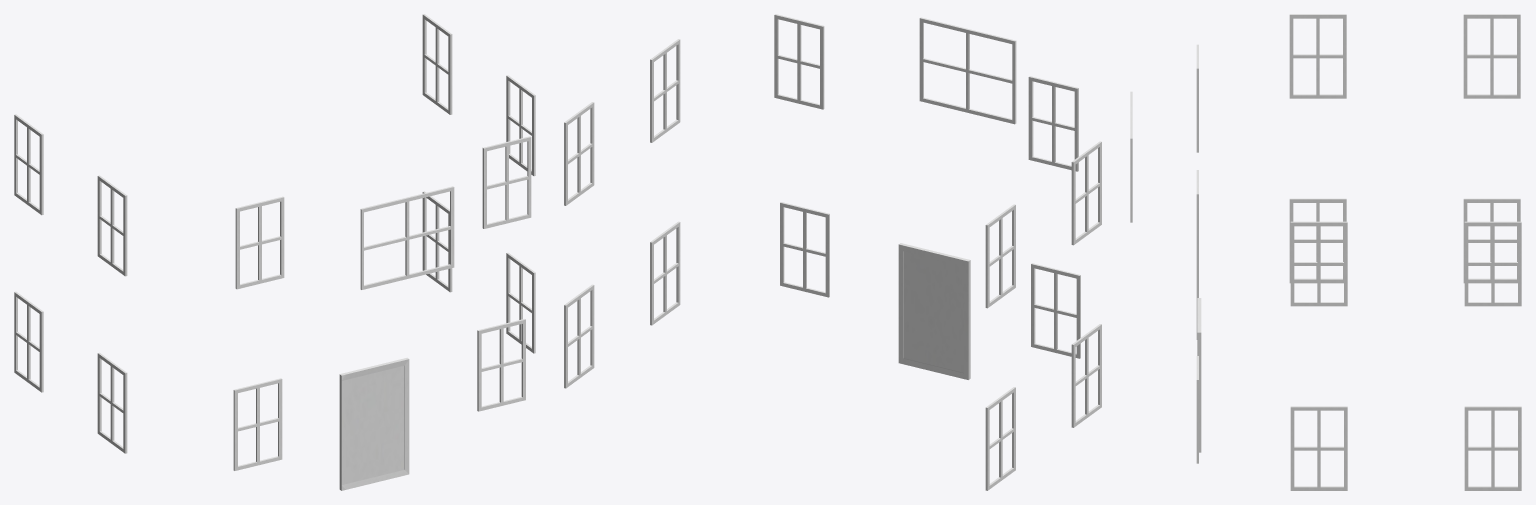
The model's file is house_1_frames.obj.
3 views of the same model, side by side, from view 1: azimuth 30°, elevation 25°; view 2: azimuth 150°, elevation 25°; view 3: azimuth 270°, elevation 25° (orthographic). The views are drawn at different scales.
Parts seen in each view (by area): view 1: Cube.000; view 2: Cube.000; view 3: Cube.000.
Boxes of the visible parts, bbox=[...] form: Cube.000: bbox=[14, 14, 535, 490]; Cube.000: bbox=[564, 14, 1101, 490]; Cube.000: bbox=[1130, 14, 1521, 490].
Bounding box in the file's own units: 4.34 × 3.11 × 3.44.
Materials: 2 (2 with a texture image).
